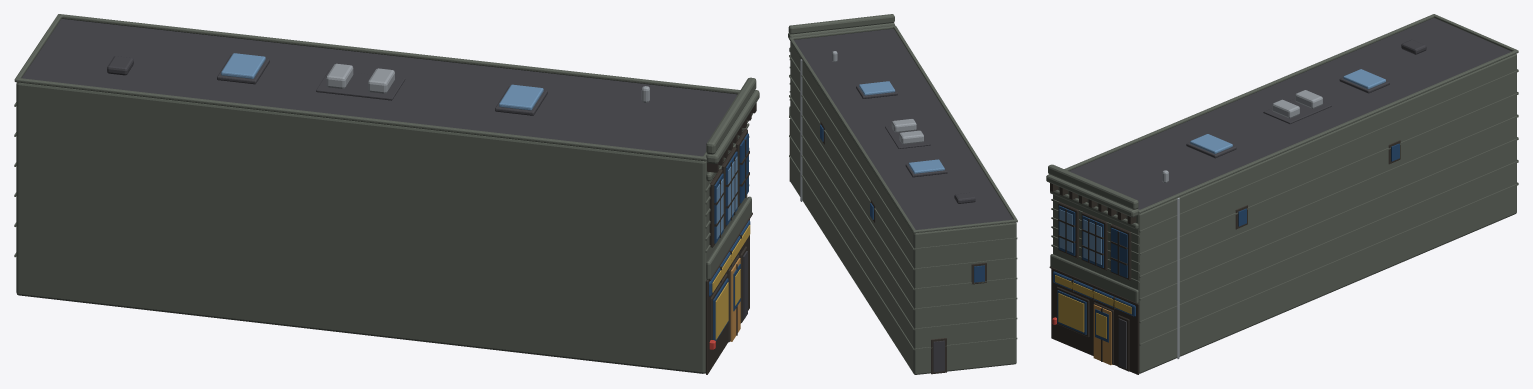
Rendered from 140-south-park.glb.
The picture shows the model from 3 angles, left to right: view 1: azimuth 30°, elevation 25°; view 2: azimuth 150°, elevation 25°; view 3: azimuth 270°, elevation 25°; orthographic projection. The views are drawn at different scales.
Visible parts, largest first — view 1: body, fascia, shopfront, cond_plinth, cornice_cap, belt, skylight_a, skylight_b, crown; view 2: body, fascia, cornice_cap, ne_lap0, ne_lap1, ne_lap2, ne_lap3, ne_lap5, ne_lap4, ne_downpipe, skylight_a, skylight_b (+15 smaller); view 3: body, fascia, shopfront, belt, cornice_cap, ne_lap1, ne_lap5, ne_lap2, ne_lap3, ne_lap0, ne_lap4, crown (+15 smaller).
Boxes of the visible parts, <box> form: body: <box>16,19,747,373</box>; fascia: <box>14,14,740,161</box>; shopfront: <box>705,219,749,374</box>; cond_plinth: <box>316,70,405,100</box>; cornice_cap: <box>706,77,756,154</box>; belt: <box>706,196,751,279</box>; skylight_a: <box>499,84,543,110</box>; skylight_b: <box>221,53,265,78</box>; crown: <box>706,90,759,163</box>; body: <box>790,28,1016,374</box>; fascia: <box>789,25,1017,233</box>; cornice_cap: <box>788,14,894,34</box>; ne_lap0: <box>789,155,913,349</box>; ne_lap1: <box>789,135,913,329</box>; ne_lap2: <box>789,115,913,309</box>; ne_lap3: <box>789,95,913,289</box>; ne_lap5: <box>789,55,913,249</box>; ne_lap4: <box>789,75,913,269</box>; ne_downpipe: <box>800,59,802,201</box>; skylight_a: <box>859,81,895,95</box>; skylight_b: <box>908,159,944,173</box>; body: <box>1053,18,1516,373</box>; fascia: <box>1064,14,1518,213</box>; shopfront: <box>1051,269,1139,374</box>; belt: <box>1050,254,1138,303</box>; cornice_cap: <box>1048,164,1138,209</box>; ne_lap1: <box>1139,160,1518,323</box>; ne_lap5: <box>1139,70,1518,232</box>; ne_lap2: <box>1139,138,1518,300</box>; ne_lap3: <box>1139,115,1518,277</box>; ne_lap0: <box>1139,183,1518,345</box>; ne_lap4: <box>1139,93,1518,255</box>; crown: <box>1046,174,1138,217</box>.
Size of the model in its own units: 26.23 by 10.68 by 26.17.
